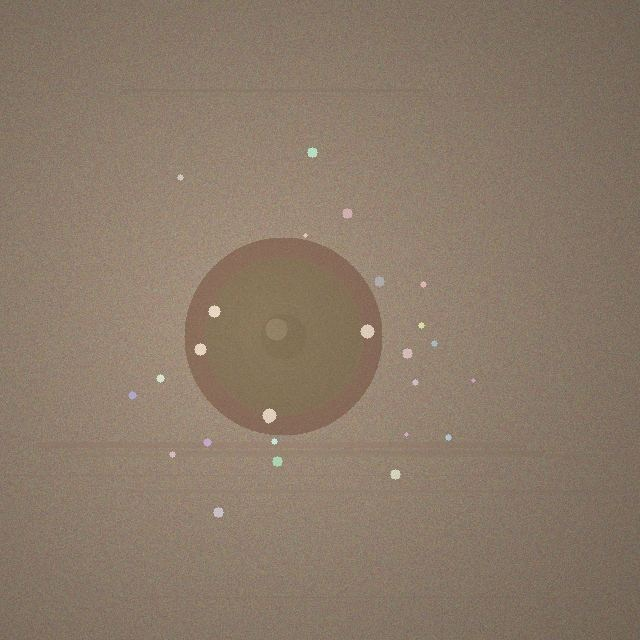overburn: (184, 237, 382, 435)
